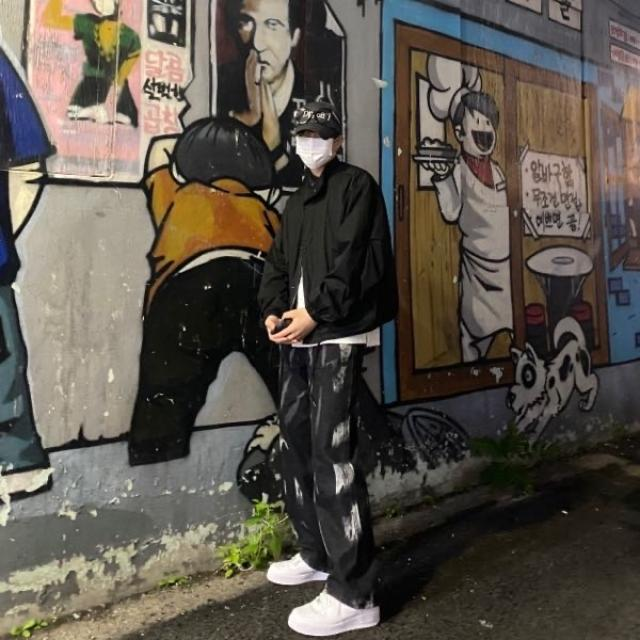denimpants: (274, 336, 384, 608)
jacket: (264, 156, 398, 342)
